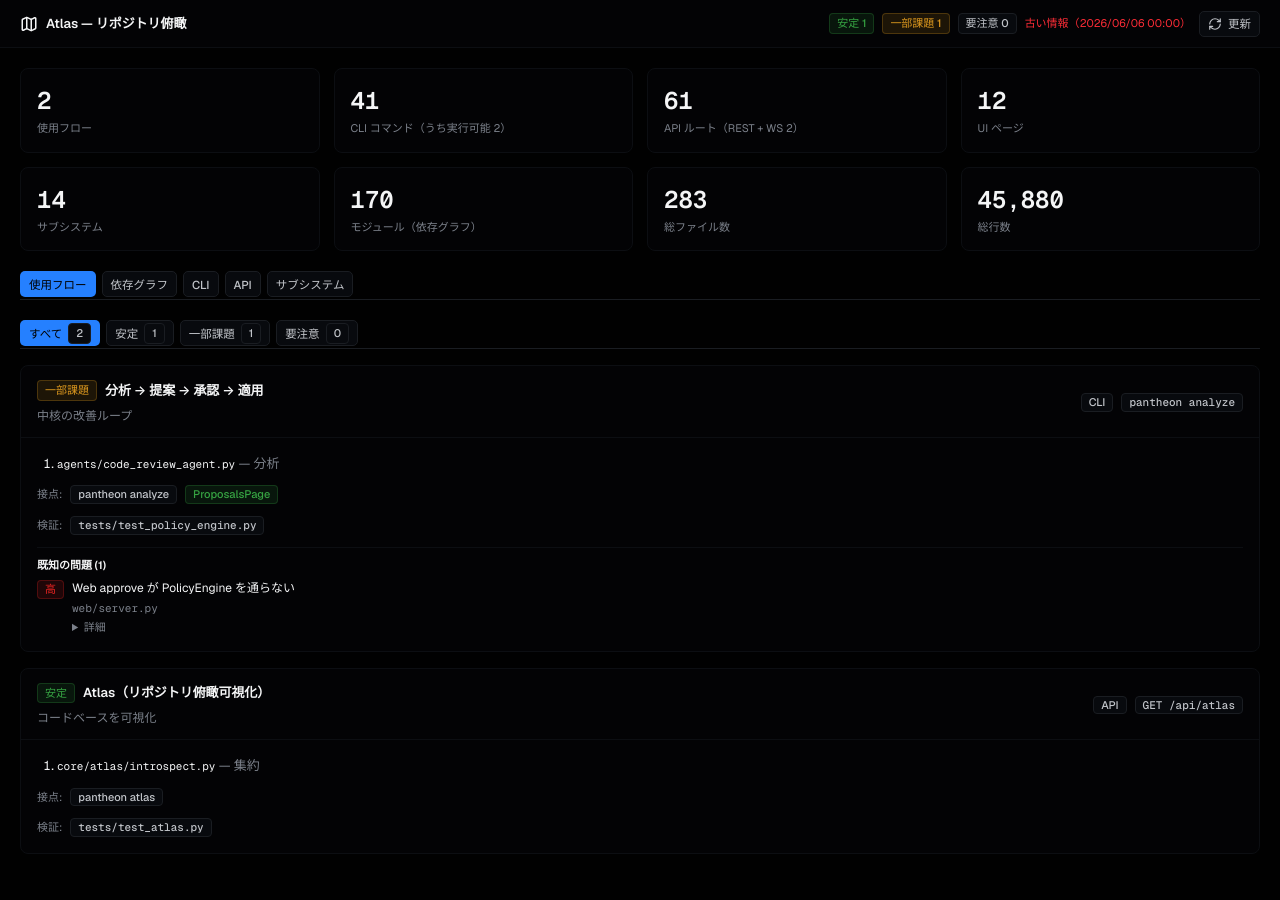
AtlasPage › shows empty row message when CLI search has no results
The width and height of the screenshot is (1280, 900).
Expected: the text "分析 → 提案 → 承認 → 適用" is shown, left=105, top=381, right=264, bottom=400
Click the tab "CLI" at (201, 284), box left=183, top=271, right=218, bottom=297
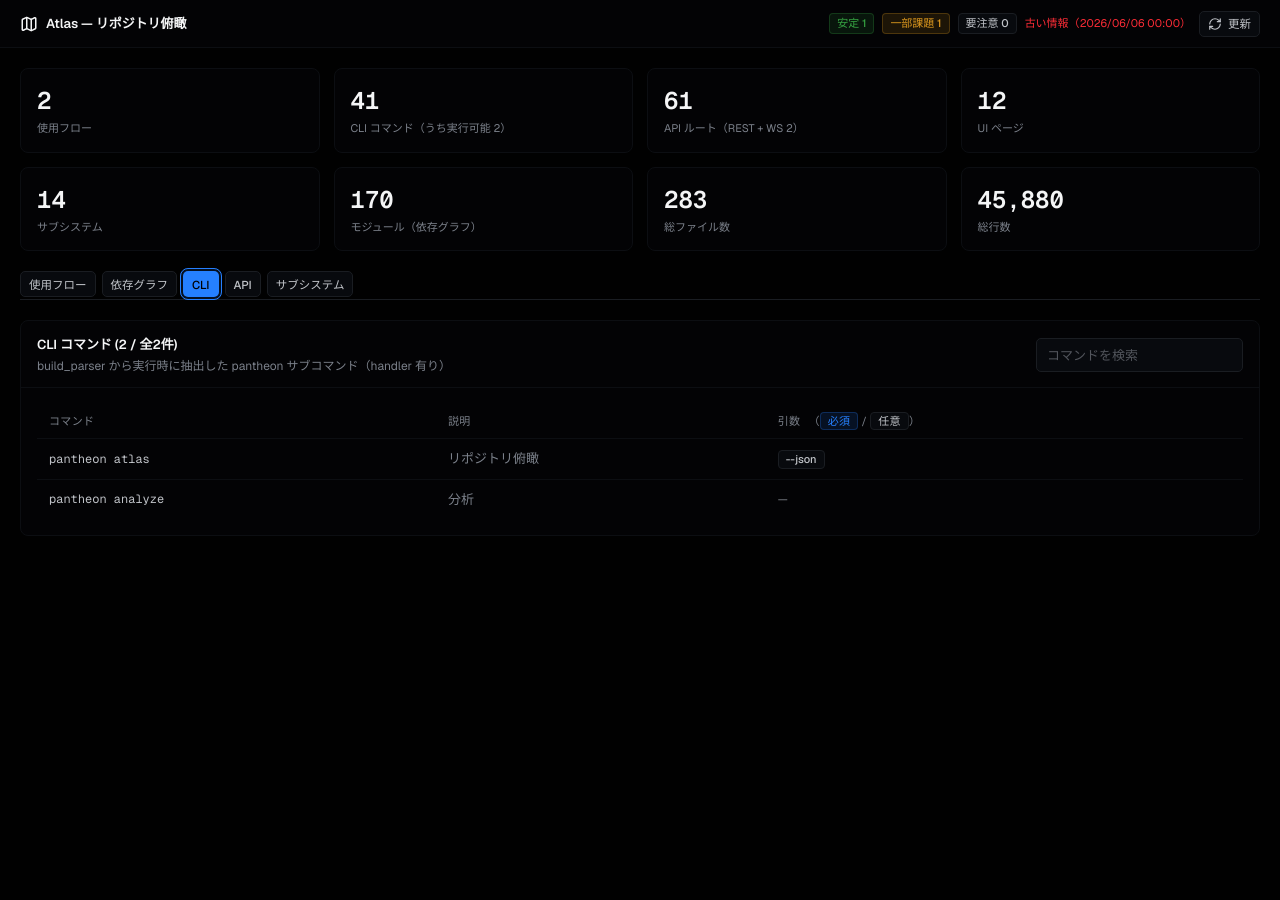
Type "xxxxxxxxx" into the field named "CLI コマンド検索" at (1140, 355), box left=1036, top=338, right=1243, bottom=372
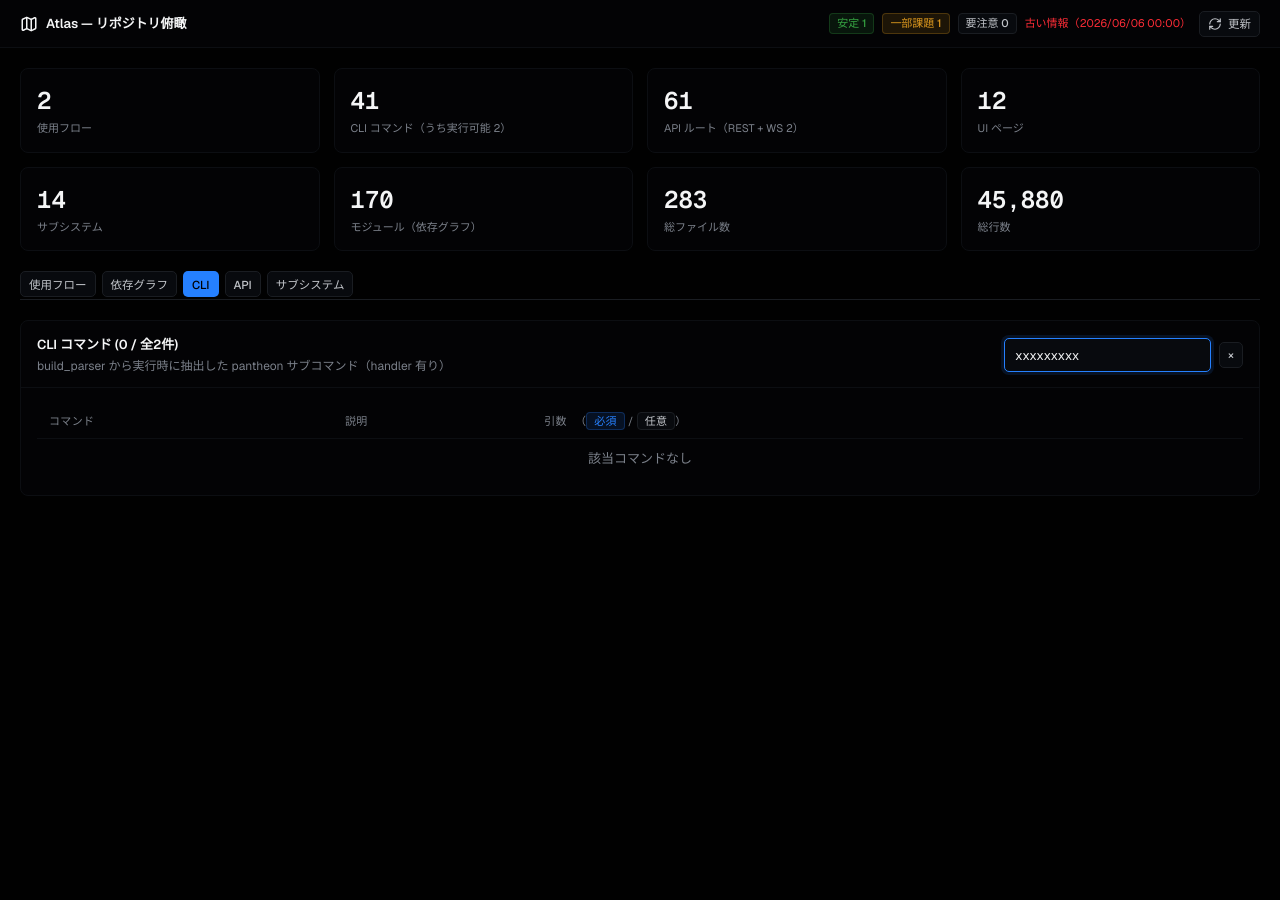
Result: the text "該当コマンドなし" is shown at left=37, top=439, right=1243, bottom=479
